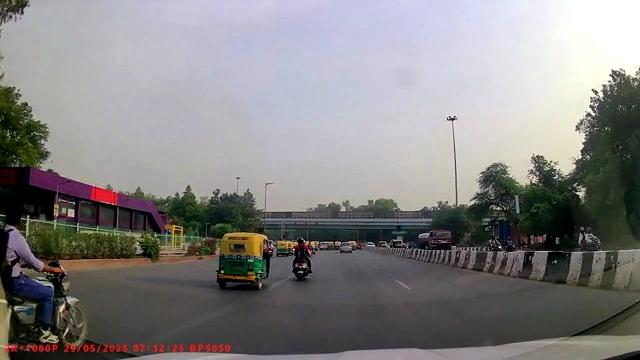motorcycle_with_helmet: (292, 237, 311, 283)
motorcycle_without_helmet: (0, 205, 87, 360)
